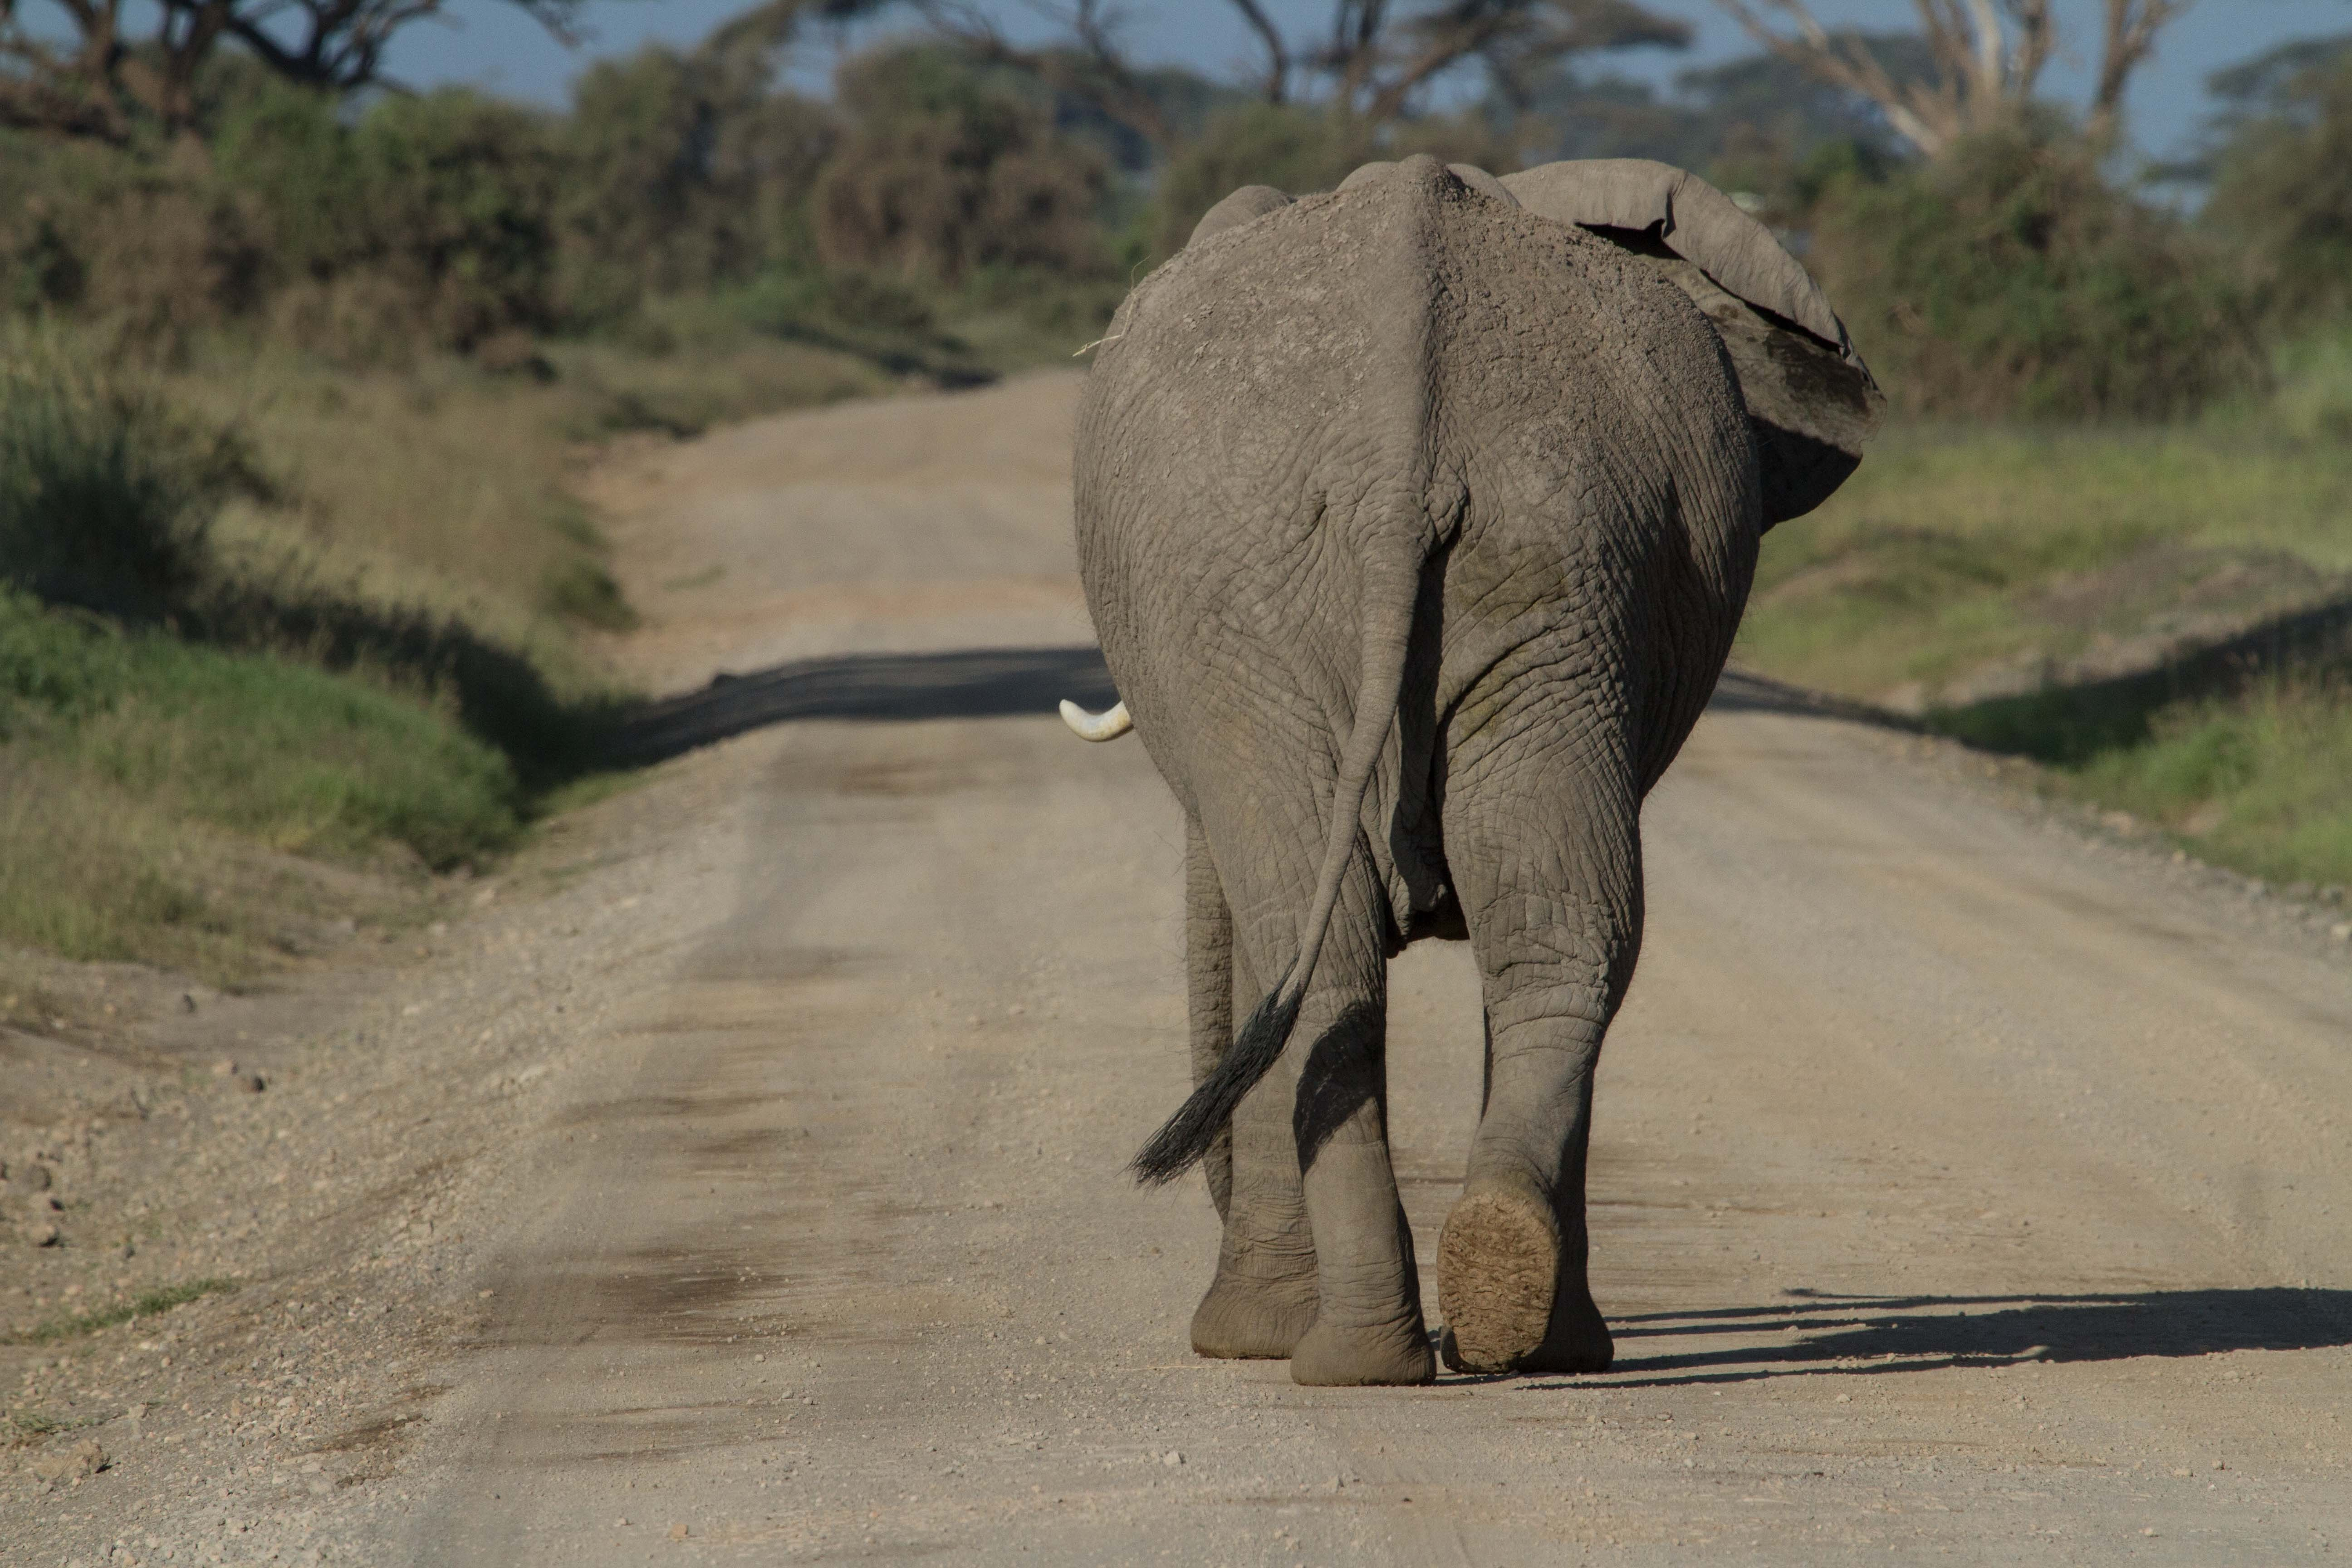elephant: (1052, 142, 1885, 1389)
